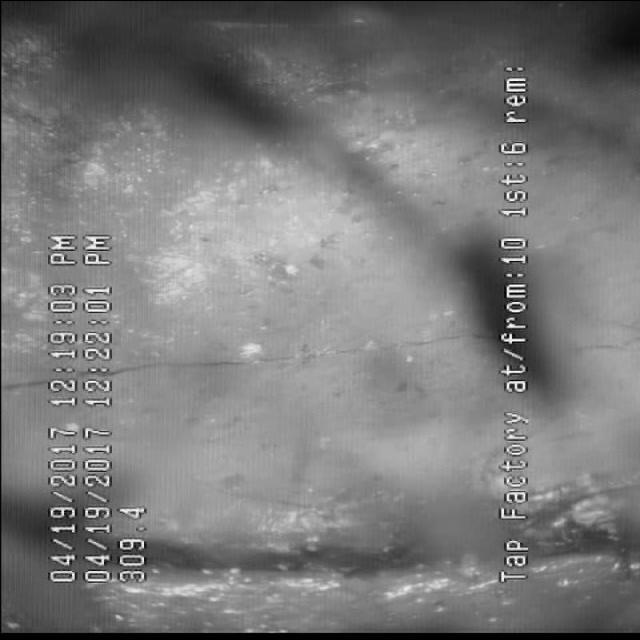Crack: (113, 308, 457, 400)
